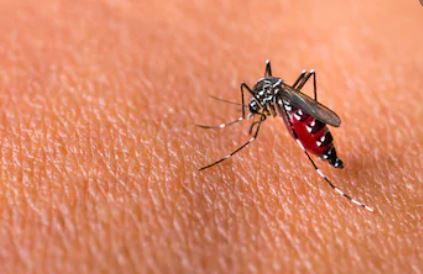dengue_mosquito: (199, 60, 373, 212)
